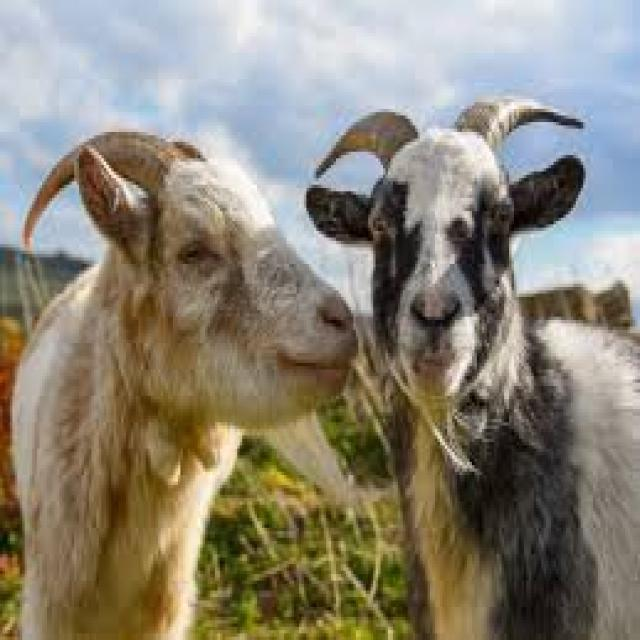Goat: (304, 86, 640, 640), (0, 124, 360, 640)
